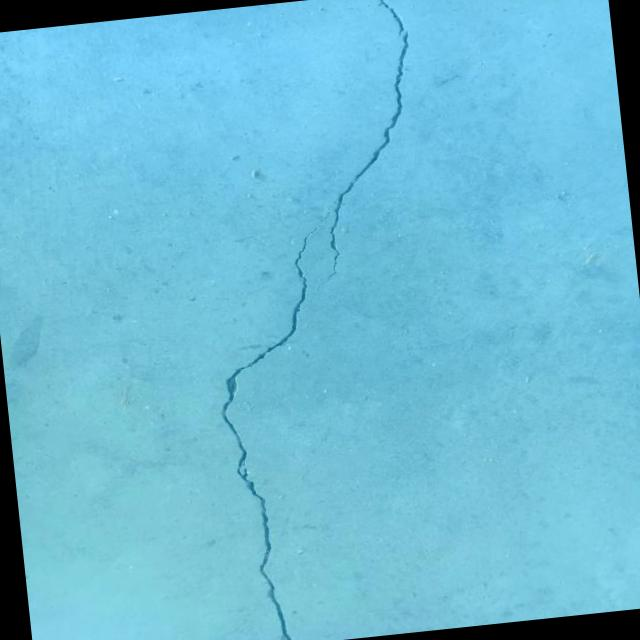crack: (200, 225, 361, 640), (278, 0, 436, 302)
